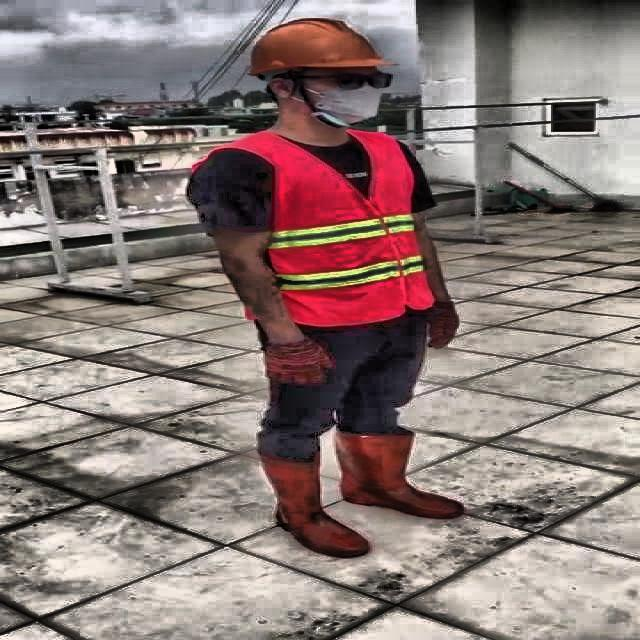safety_jacket: (195, 127, 434, 323)
